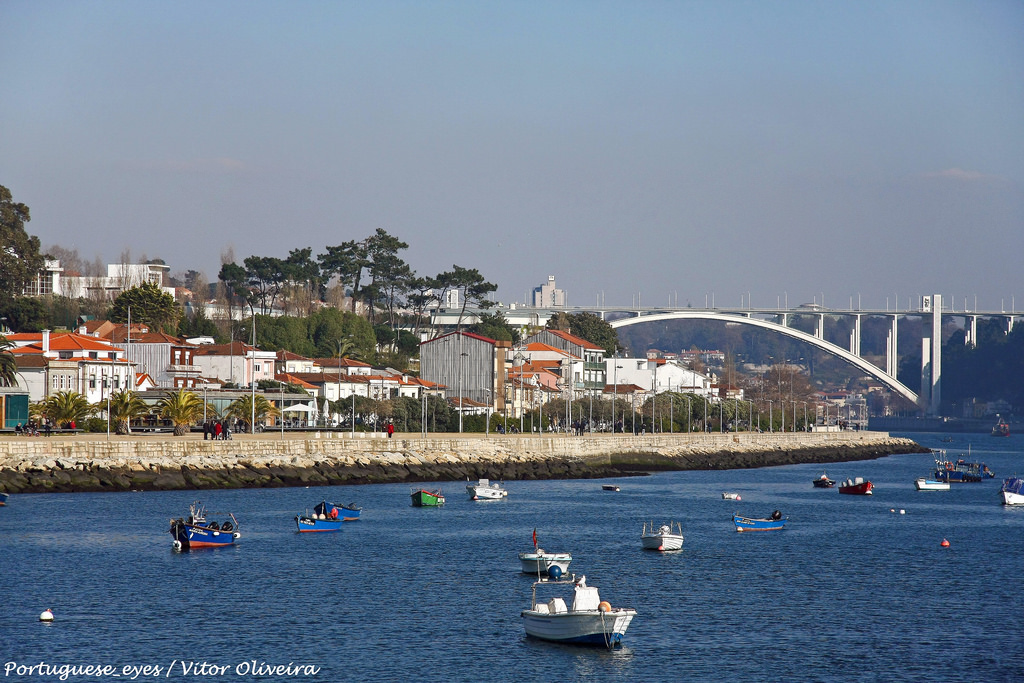arrabida: (537, 292, 1023, 421)
